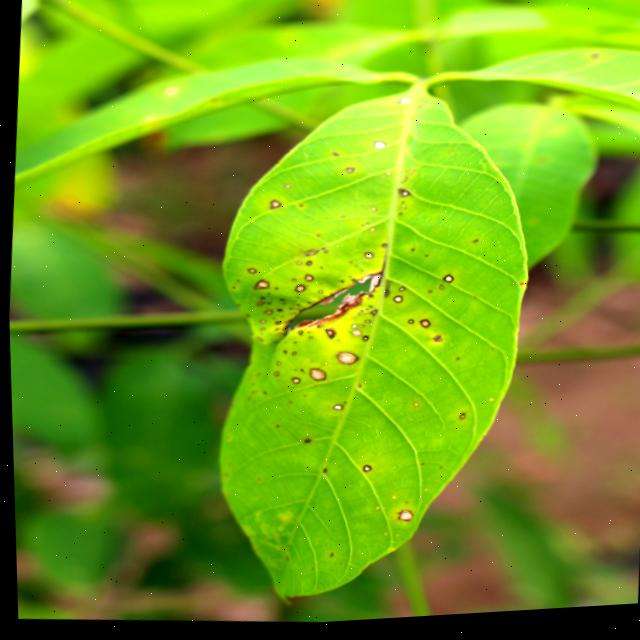Colletotrichum: (334, 354, 356, 368), (306, 370, 324, 384), (393, 513, 410, 525), (252, 281, 268, 293), (439, 277, 452, 288), (292, 286, 305, 296), (268, 201, 281, 211), (416, 322, 429, 332), (372, 144, 385, 153), (390, 298, 401, 308), (323, 331, 333, 341), (330, 406, 340, 414), (288, 379, 298, 387), (360, 467, 369, 475), (303, 276, 312, 284), (349, 332, 359, 339), (363, 254, 372, 261), (247, 269, 255, 276), (400, 194, 408, 201), (344, 170, 352, 176), (456, 417, 462, 424), (405, 323, 412, 327), (360, 339, 366, 343), (349, 327, 355, 331), (397, 291, 403, 295), (362, 323, 368, 326), (290, 354, 294, 357)
